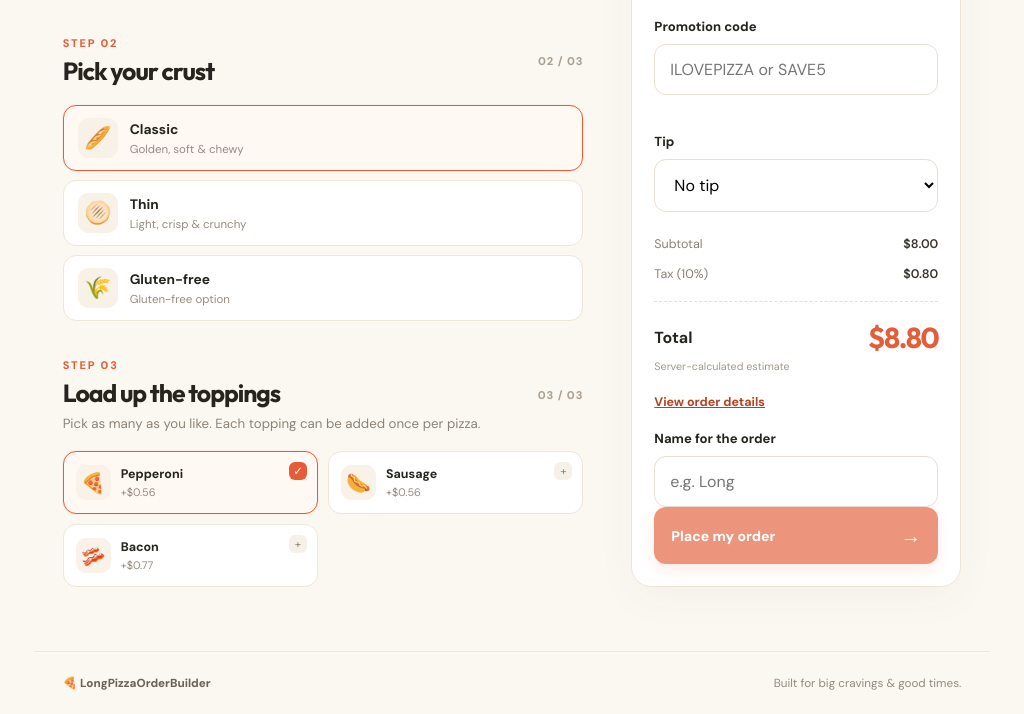
Test: UI-008: order details appear only on request and have no side effects › is hidden by default, opens on request, and closes with Escape returning focus
The width and height of the screenshot is (1024, 714).
(page scrolled)
Check: the text with test id "order-total" reads "$8.80", box [868, 319, 938, 355]
Step 1. Click the button "View order details" → (710, 402), box [654, 392, 765, 412]
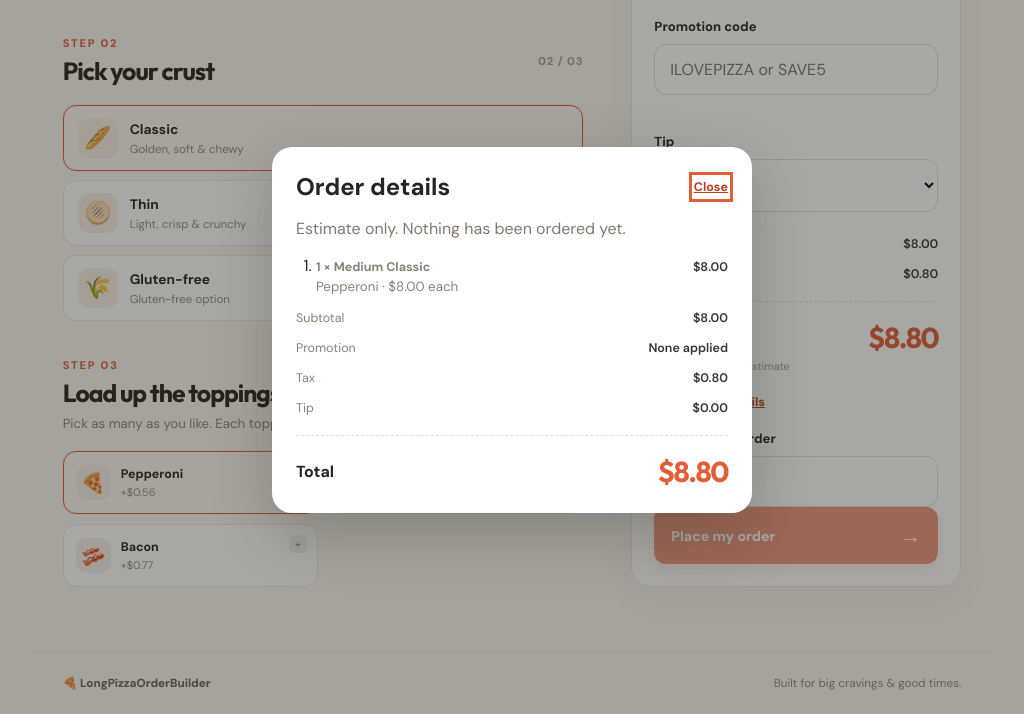
Check: the text "1 × Medium Classic" is shown, box [316, 259, 430, 275]
Check: the text "$8.80" is shown, box [658, 453, 728, 489]
Step 2. Press Escape
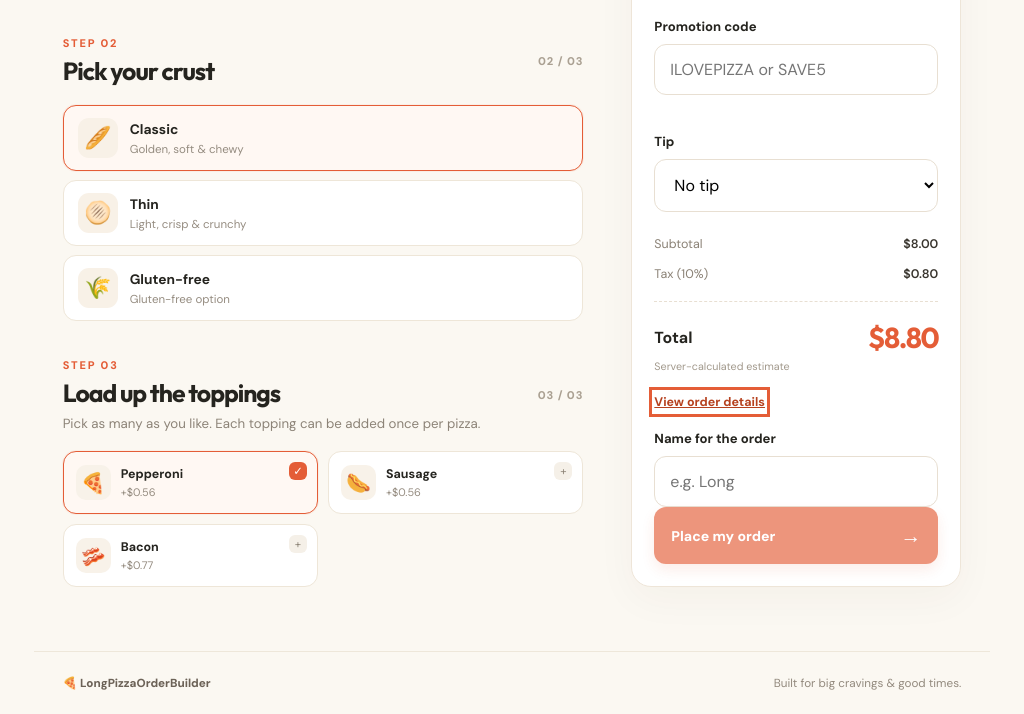
Check: the text with test id "order-total" reads "$8.80", box [868, 319, 938, 355]
Check: the dialog is gone
